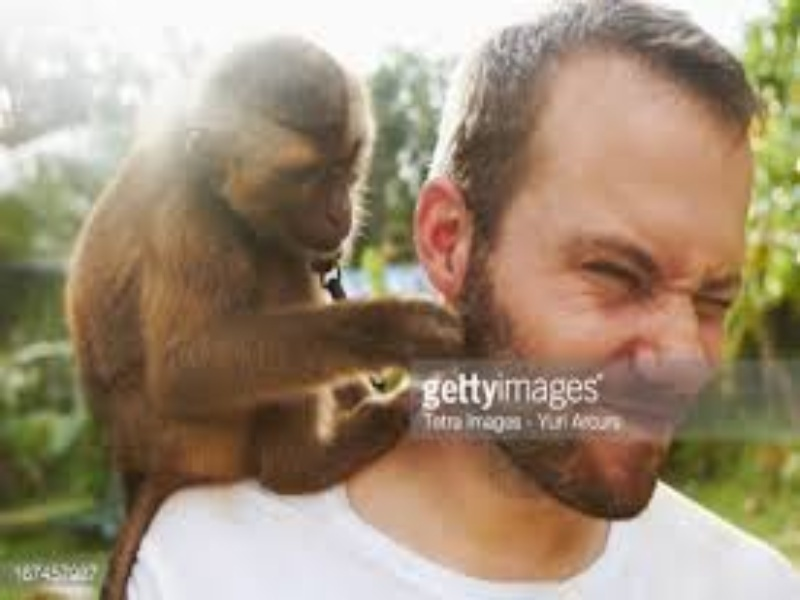monkey: (67, 25, 462, 592)
